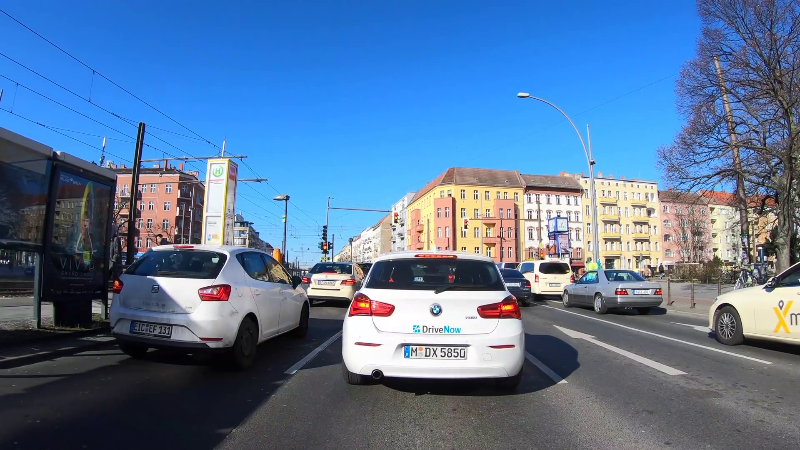Plate: (402, 343, 470, 361), (129, 319, 173, 337), (315, 278, 338, 286), (631, 287, 653, 295), (505, 281, 521, 287), (547, 282, 561, 288)
